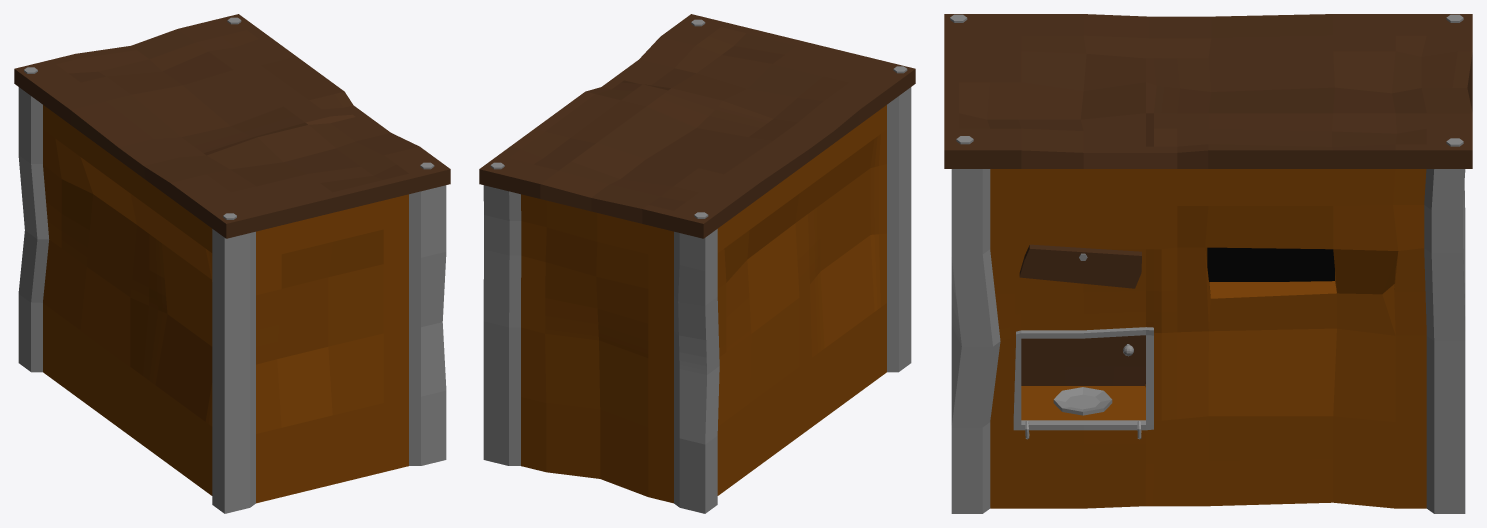
Rendered from GoblinBox.fbx.
The picture shows the model from 3 angles, left to right: view 1: azimuth 30°, elevation 25°; view 2: azimuth 150°, elevation 25°; view 3: azimuth 270°, elevation 25°; orthographic projection. The views are drawn at different scales.
Parts seen in each view (by area): view 1: Plane; view 2: Plane; view 3: Plane.
Part boxes in pixels (x1,y1,x2,y2): Plane: (14,14,450,513); Plane: (479,14,915,513); Plane: (944,14,1472,513).
Size of the model in its own units: 223 by 276 by 360.
